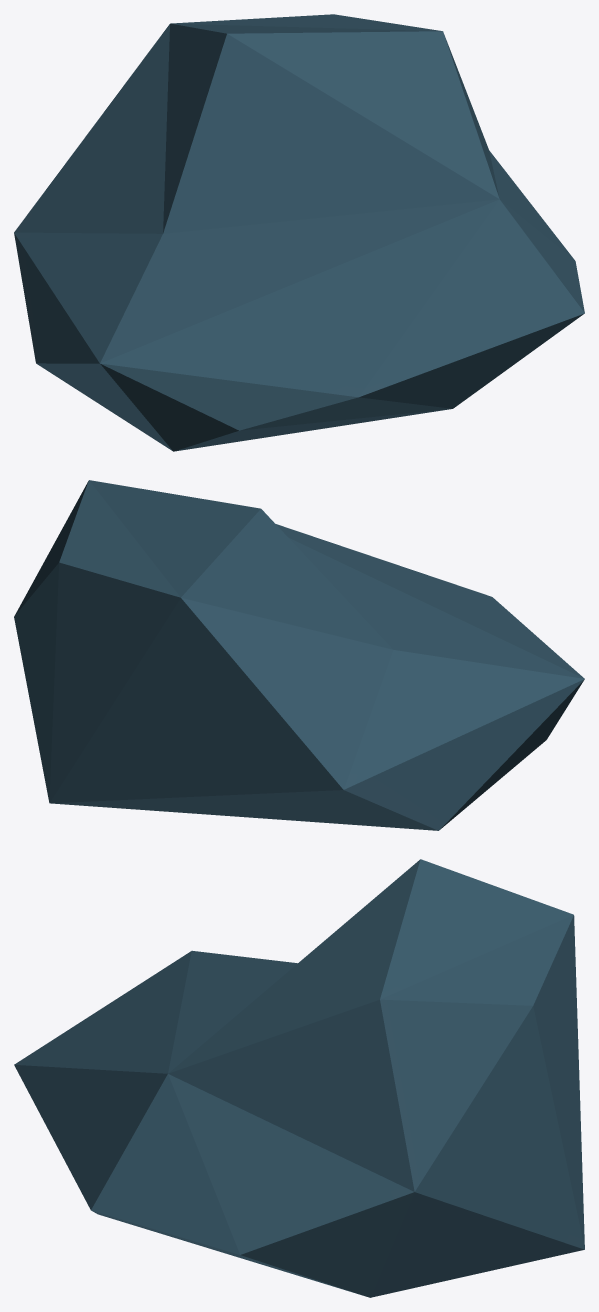
File: Boulder-C14.fbx
3 renders of one model, top to bottom at view 1: azimuth 30°, elevation 25°; view 2: azimuth 150°, elevation 25°; view 3: azimuth 270°, elevation 25°, orthographic. The views are drawn at different scales.
Parts seen in each view (by area): view 1: Boulder-C14; view 2: Boulder-C14; view 3: Boulder-C14.
Part boxes in pixels (x1,y1,x2,y2): Boulder-C14: (14,14,584,451); Boulder-C14: (14,480,584,830); Boulder-C14: (14,859,584,1297).
Bounding box in the file's own units: 160 × 87.96 × 145.
